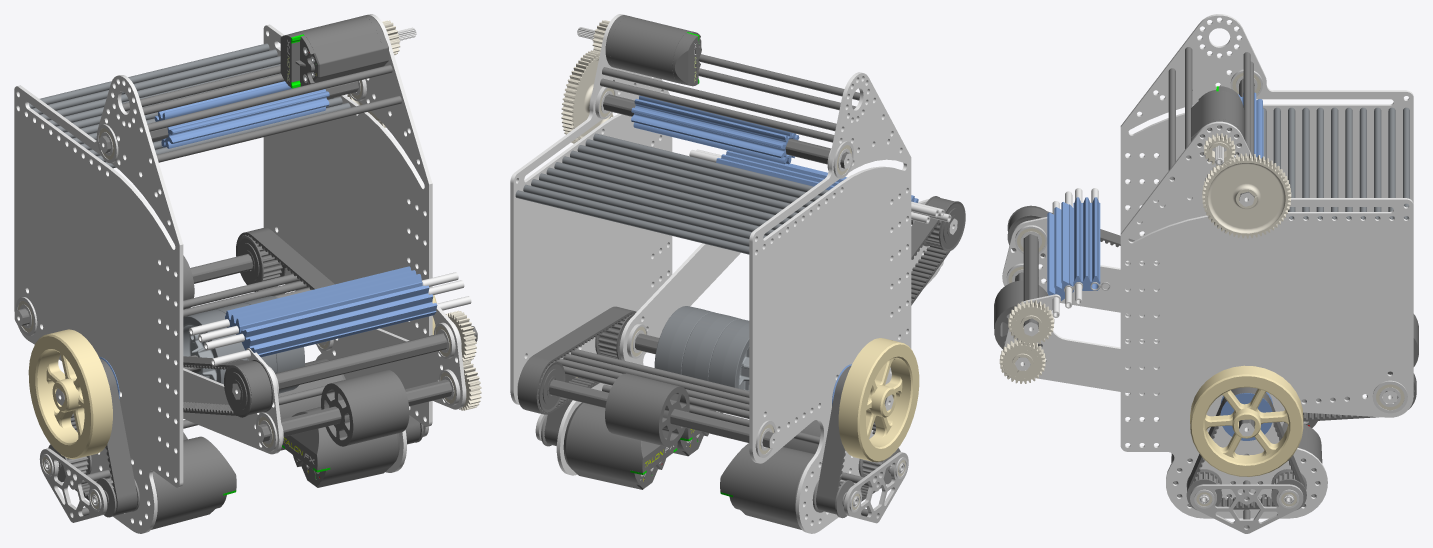
Rendered from shooter.gltf.
3 renders of one model, left to right at view 1: azimuth 30°, elevation 25°; view 2: azimuth 150°, elevation 25°; view 3: azimuth 270°, elevation 25°, orthographic. The views are drawn at different scales.
Parts seen in each view (by area): view 1: 930-26-P-0501 (×2), 10 DP Gear Rack (#10-32 Clearance) (×2), Kraken X60 Brushless Motor (×3), 1/2" Hex Bore Custom Spacer (0.25" OD,8.75" L) (×6), 4" Brass Flywheel (1/2" Triangle Bore), 930-26-P-0502 (×2), 930-26-P-0504 (×5), Kraken X44 Brushless Motor, 2" Thrifty Squish Wheel (45A, 1" Wide, 1/2" Hex Bore) (×4), Spur gear (10 teeth), 1/2" Rounded Hex (8.438" L, 13.75mm OD), 70T 5M 18mm Wide Belt (+10 smaller); view 2: 930-26-P-0501 (×2), 930-26-P-0504 (×11), 1/2" Hex Bore Custom Spacer (0.25" OD,8.75" L) (×9), Kraken X60 Brushless Motor (×4), 4" Brass Flywheel (1/2" Triangle Bore), Rubber (×3), Spur gear (10 teeth), Kraken X44 Brushless Motor, 2" Thrifty Squish Wheel (45A, 1" Wide, 1/2" Hex Bore) (×4), 930-26-P-0502, 79T 5M 18mm Wide Belt, 70T 5M 18mm Wide Belt (×2) (+7 smaller); view 3: 930-26-P-0501 (×2), 4" Brass Flywheel (1/2" Triangle Bore), 930-26-P-0504 (×9), 930-26-P-0502 (×2), 60t Pocketed Aluminum Spur Gear (20 DP, 1/2" Hex Bore), 10 DP Gear Rack (#10-32 Clearance) (×2), 30t Aluminum Spur Gear (20 DP, 1/2" Hex Bore) (×2), 930-26-P-0503, 1/2" Hex Bore Custom Spacer (0.25" OD,8.75" L) (×3), Kraken X44 Brushless Motor, 70T 5M 18mm Wide Belt, 1/2" Hex Bore Bearing (1.125" OD, 0.313" WD, Shielded, Flang (×2) (+9 smaller).
Boxes of the visible parts, <box> form: 930-26-P-0501 (×2): <box>14,14,432,533</box>; 10 DP Gear Rack (#10-32 Clearance) (×2): <box>225,266,437,357</box>; Kraken X60 Brushless Motor (×3): <box>92,358,399,529</box>; 1/2" Hex Bore Custom Spacer (0.25" OD,8.75" L) (×6): <box>122,65,401,317</box>; 4" Brass Flywheel (1/2" Triangle Bore): <box>28,329,112,459</box>; 930-26-P-0502 (×2): <box>183,302,466,454</box>; 930-26-P-0504 (×5): <box>29,43,350,168</box>; Kraken X44 Brushless Motor: <box>280,15,416,88</box>; 2" Thrifty Squish Wheel (45A, 1" Wide, 1/2" Hex Bore) (×4): <box>321,369,409,446</box>; Spur gear (10 teeth): <box>154,81,329,148</box>; 1/2" Rounded Hex (8.438" L, 13.75mm OD): <box>232,326,477,399</box>; 70T 5M 18mm Wide Belt: <box>70,358,137,515</box>; 930-26-P-0501 (×2): <box>510,14,911,533</box>; 930-26-P-0504 (×11): <box>515,133,828,254</box>; 1/2" Hex Bore Custom Spacer (0.25" OD,8.75" L) (×9): <box>556,54,859,444</box>; Kraken X60 Brushless Motor (×4): <box>563,402,903,529</box>; 4" Brass Flywheel (1/2" Triangle Bore): <box>838,338,919,462</box>; Rubber (×3): <box>654,306,749,388</box>; Spur gear (10 teeth): <box>631,95,799,164</box>; Kraken X44 Brushless Motor: <box>577,15,701,86</box>; 2" Thrifty Squish Wheel (45A, 1" Wide, 1/2" Hex Bore) (×4): <box>605,373,689,447</box>; 930-26-P-0502: <box>619,243,740,363</box>; 79T 5M 18mm Wide Belt: <box>517,306,636,414</box>; 70T 5M 18mm Wide Belt (×2): <box>544,366,886,514</box>; 930-26-P-0501 (×2): <box>1120,14,1413,518</box>; 4" Brass Flywheel (1/2" Triangle Bore): <box>1190,365,1303,476</box>; 930-26-P-0504 (×9): <box>1288,107,1409,219</box>; 930-26-P-0502 (×2): <box>1002,217,1158,394</box>; 60t Pocketed Aluminum Spur Gear (20 DP, 1/2" Hex Bore): <box>1202,153,1291,238</box>; 10 DP Gear Rack (#10-32 Clearance) (×2): <box>1047,197,1100,300</box>; 30t Aluminum Spur Gear (20 DP, 1/2" Hex Bore) (×2): <box>999,299,1054,383</box>; 930-26-P-0503: <box>1190,484,1303,533</box>; 1/2" Hex Bore Custom Spacer (0.25" OD,8.75" L) (×3): <box>1168,47,1250,180</box>; Kraken X44 Brushless Motor: <box>1191,86,1244,165</box>; 70T 5M 18mm Wide Belt: <box>1187,387,1304,509</box>; 1/2" Hex Bore Bearing (1.125" OD, 0.313" WD, Shielded, Flang (×2): <box>1015,225,1407,413</box>.
Bounding box in the file's own units: 0.3239 × 0.3862 × 0.3758.
